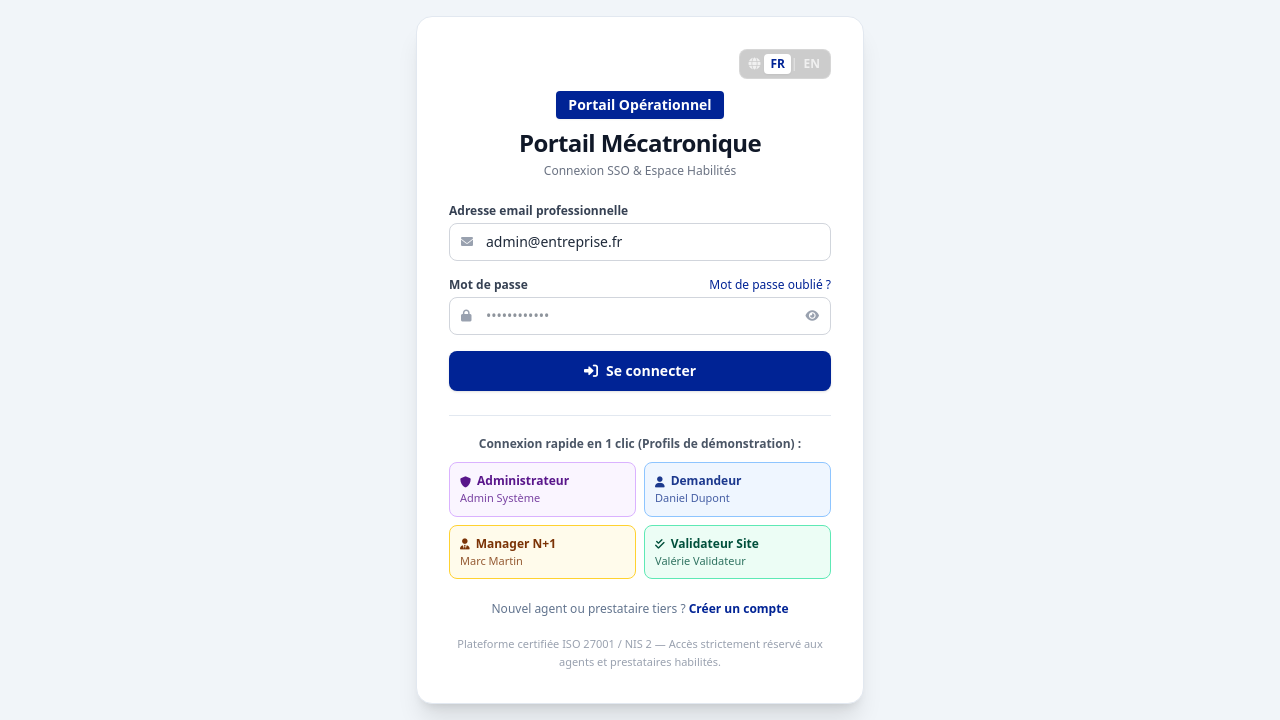
Scenario: Password Recovery Frontend Components › affiche le bouton "Mot de passe oublié ?" sur la page de connexion et ouvre la modale
Step 1. Click the button "Mot de passe oublié ?" → {"x": 770, "y": 285}, box top-left (709, 277), bottom-right (831, 293)
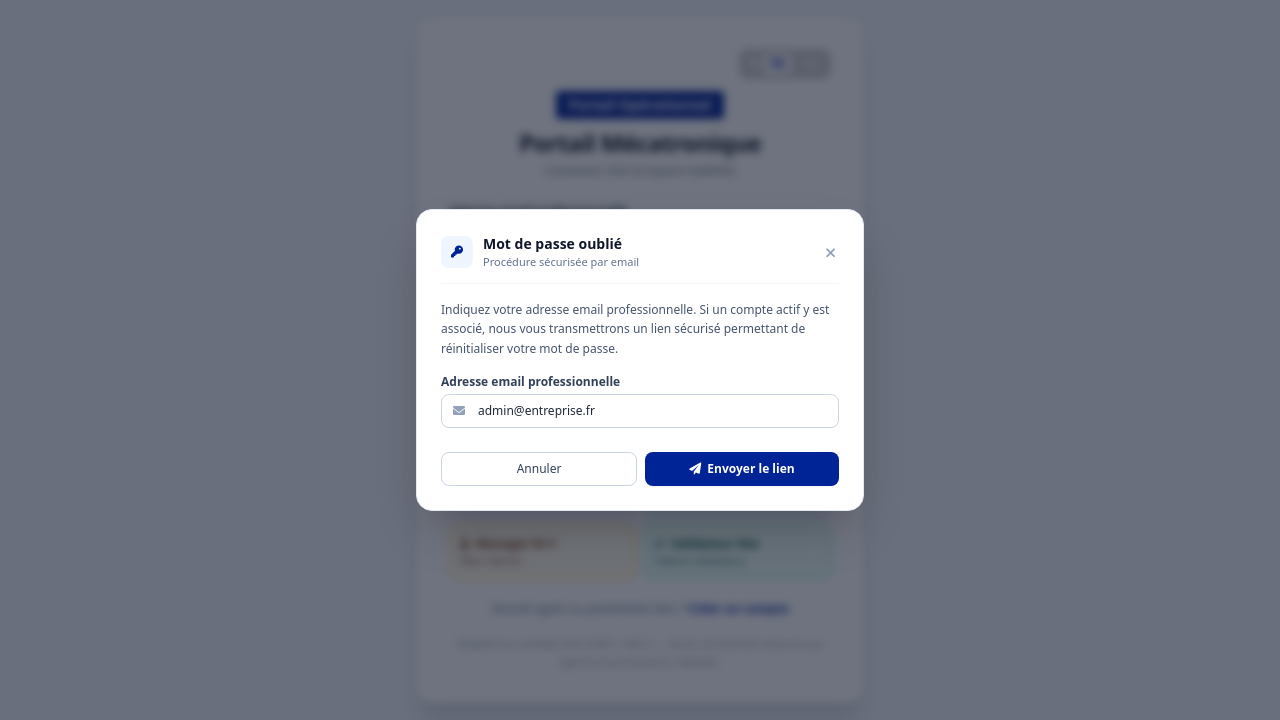
Check: the text "Procédure sécurisée par email" is shown, box top-left (483, 254), bottom-right (639, 270)
Check: the button "Envoyer le lien" is shown, box top-left (645, 452), bottom-right (839, 486)
